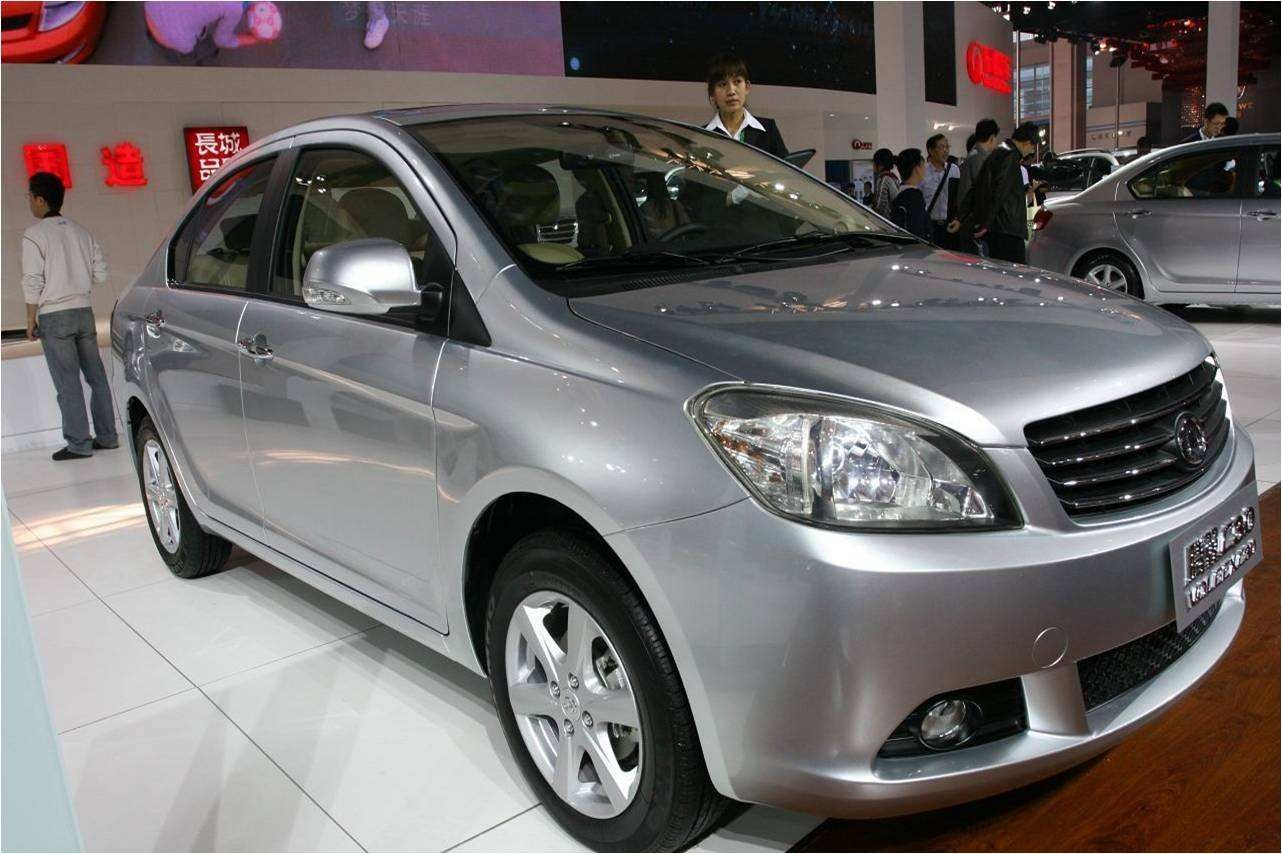family sedan: (103, 101, 1243, 810)
